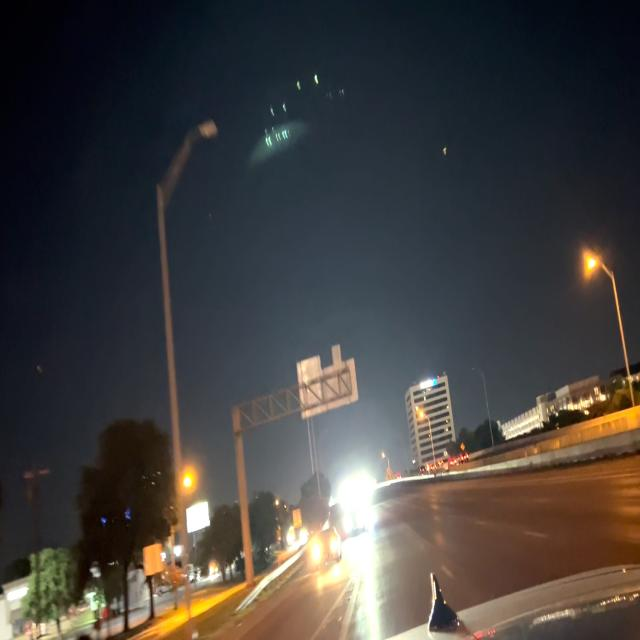back-of-sign: (297, 341, 358, 422)
